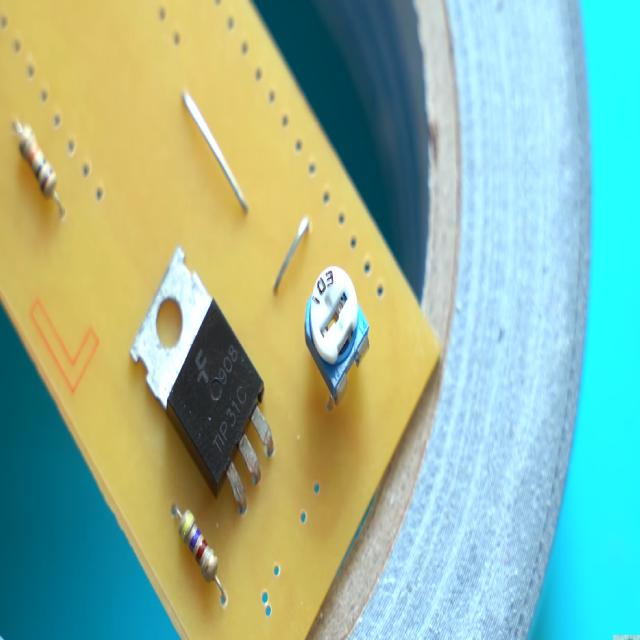pcb: (0, 0, 442, 637), (129, 244, 274, 512), (129, 244, 212, 410)
